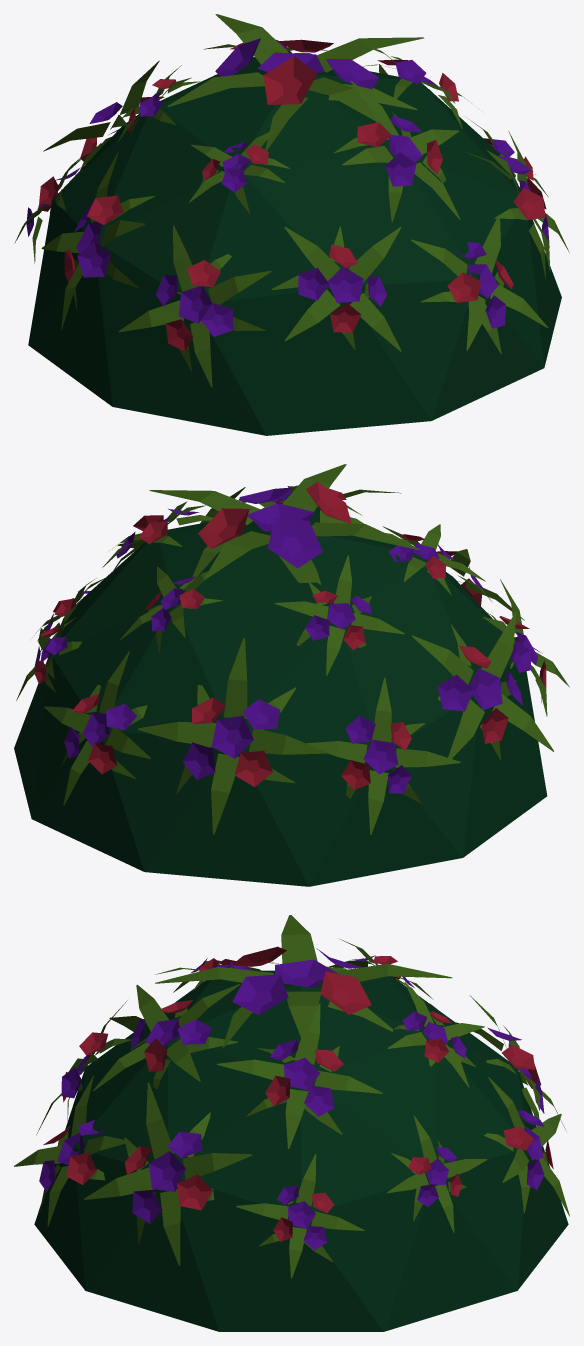
The model's file is Flowers1.glb.
3 views of the same model, one above another, from view 1: azimuth 30°, elevation 25°; view 2: azimuth 150°, elevation 25°; view 3: azimuth 270°, elevation 25° (orthographic). The views are drawn at different scales.
Parts seen in each view (by area): view 1: Flowers1; view 2: Flowers1; view 3: Flowers1.
Boxes of the visible parts, <box> form: Flowers1: <box>14,14,569,435</box>; Flowers1: <box>14,464,569,886</box>; Flowers1: <box>14,915,569,1331</box>.
Bounding box in the file's own units: 2.13 × 1.12 × 2.08.
